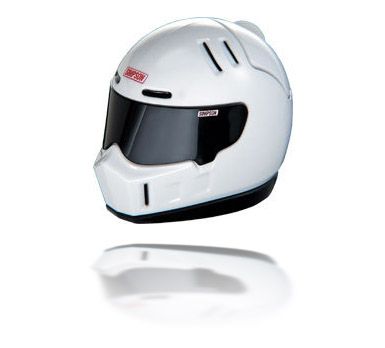helmet: (102, 25, 291, 204)
